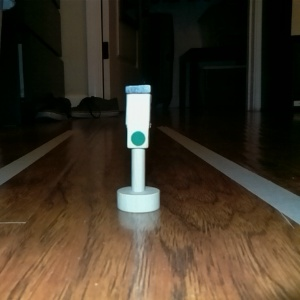traffic light green: (113, 81, 162, 213)
